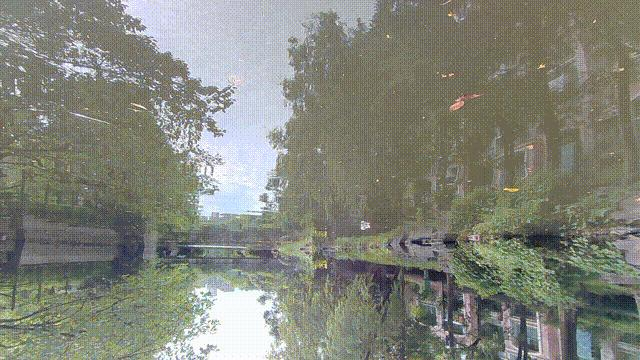Plastic: (501, 186, 520, 193), (360, 219, 371, 230), (467, 234, 479, 240)
